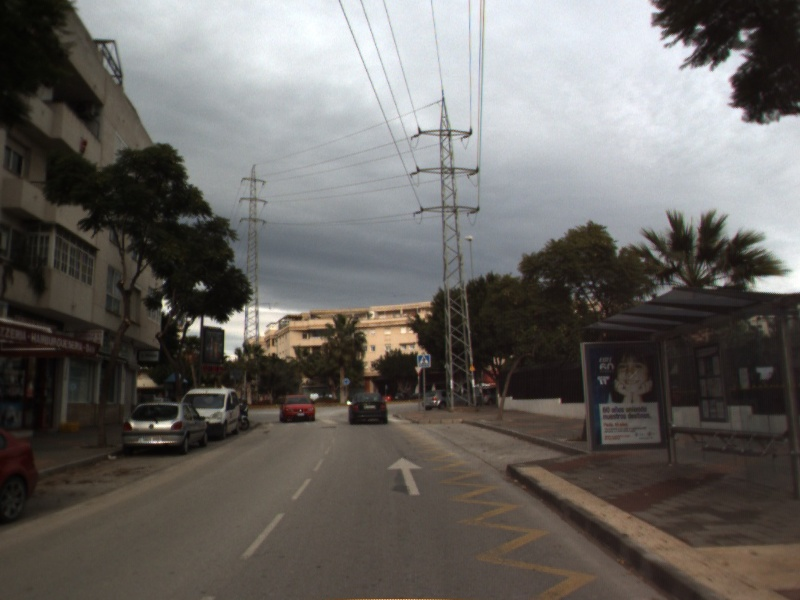STRAIGHT: (384, 454, 426, 497)
